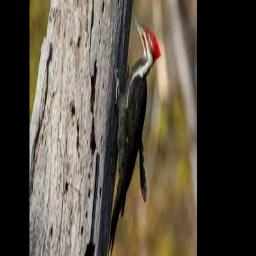Woodpecker: (107, 13, 161, 256)
